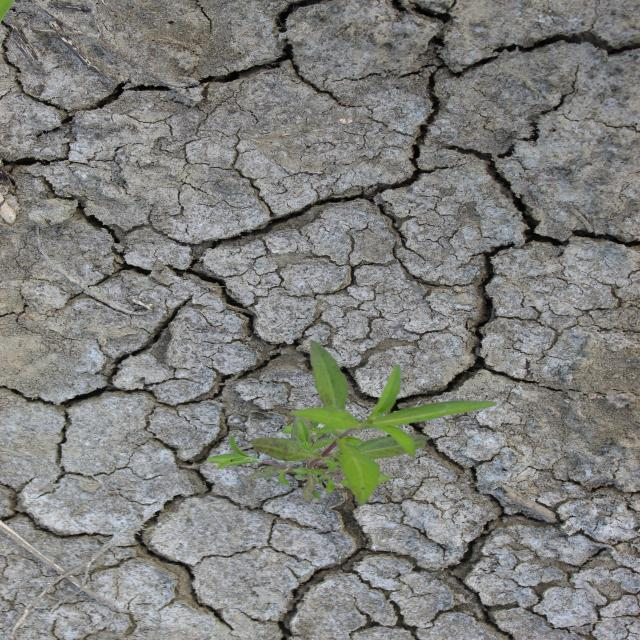Eclipta: (206, 339, 500, 507)
